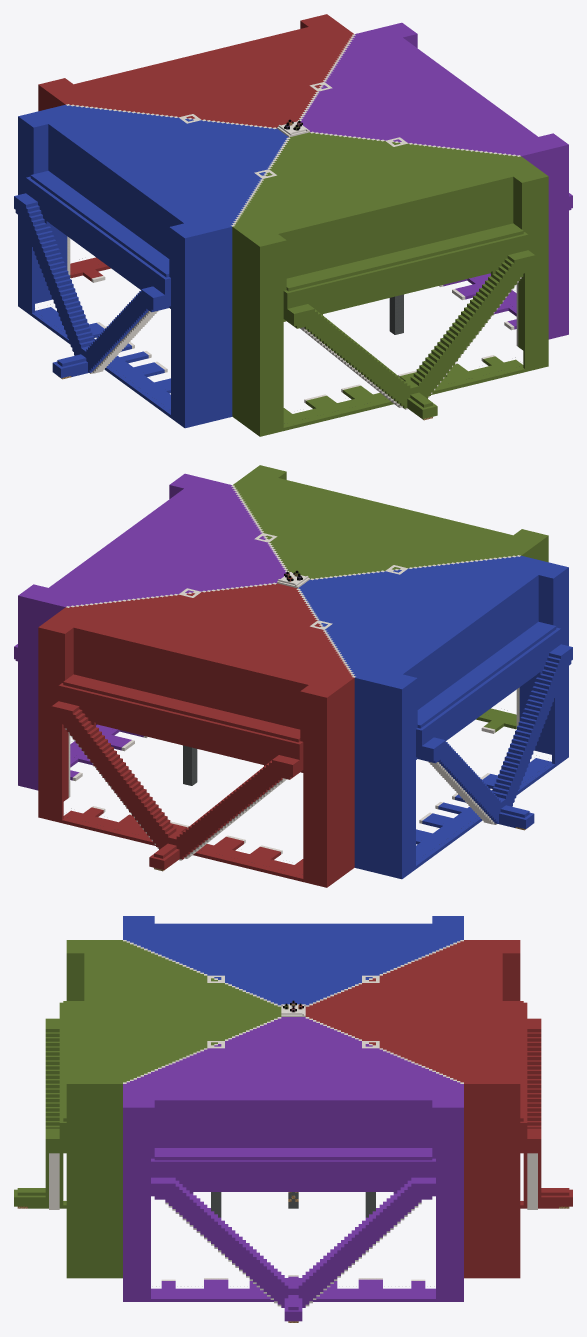
The model's file is minecraft.obj.
3 views of the same model, one above another, from view 1: azimuth 30°, elevation 25°; view 2: azimuth 150°, elevation 25°; view 3: azimuth 270°, elevation 25° (orthographic). The views are drawn at different scales.
Size of the model in its own units: 159 by 63.52 by 159.
